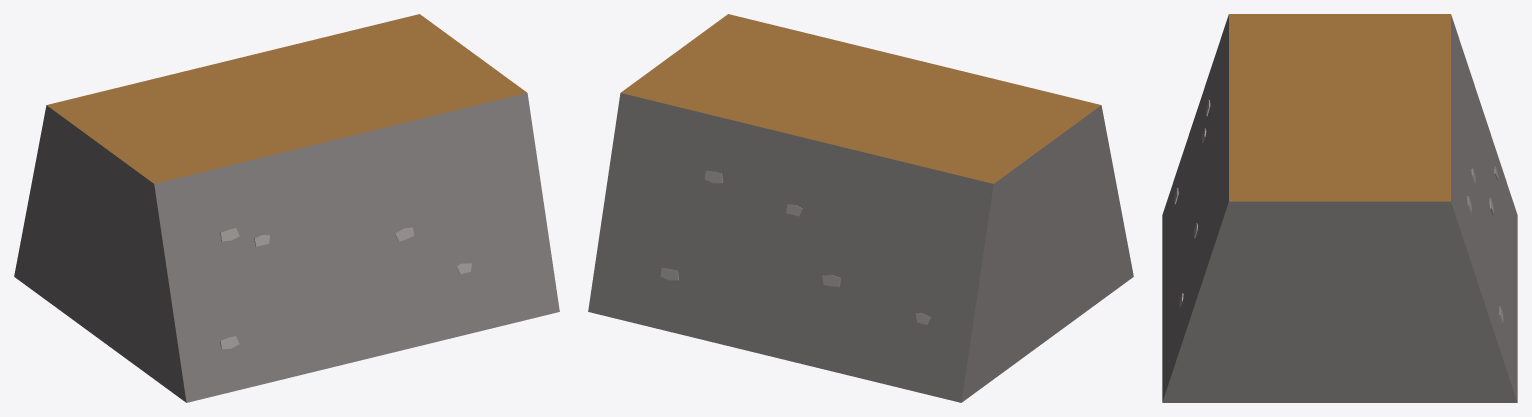
The model's file is japan-base-japan-medium.glb.
3 views of the same model, side by side, from view 1: azimuth 30°, elevation 25°; view 2: azimuth 150°, elevation 25°; view 3: azimuth 270°, elevation 25° (orthographic). The views are drawn at different scales.
Parts seen in each view (by area): view 1: base-japan_medium; view 2: base-japan_medium; view 3: base-japan_medium.
Boxes of the visible parts, x1,y1,x2,y2 form: base-japan_medium: [14, 14, 559, 402]; base-japan_medium: [588, 14, 1133, 402]; base-japan_medium: [1162, 14, 1517, 402].
Size of the model in its own units: 20 by 10 by 16.
